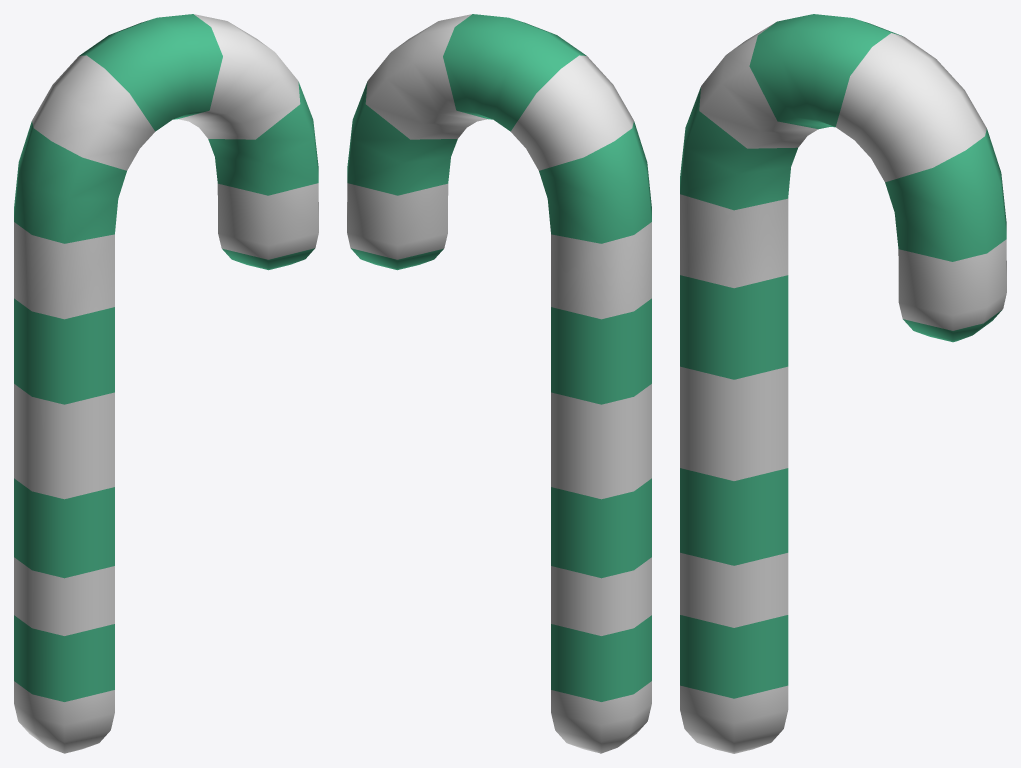
Rendered from candyCaneB.gltf.glb.
3 renders of one model, left to right at view 1: azimuth 30°, elevation 25°; view 2: azimuth 150°, elevation 25°; view 3: azimuth 330°, elevation 25°, orthographic. The views are drawn at different scales.
Parts seen in each view (by area): view 1: candyCaneB; view 2: candyCaneB; view 3: candyCaneB.
Boxes of the visible parts, x1,y1,x2,y2 form: candyCaneB: (14,14,318,753); candyCaneB: (347,14,651,753); candyCaneB: (680,14,1006,753).
Size of the model in its own units: 0.2602 by 0.6035 by 0.0793.
